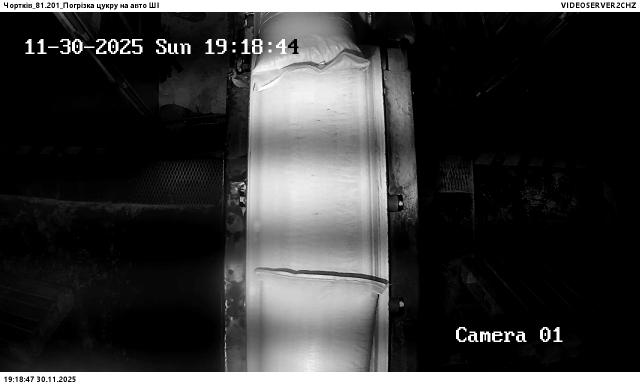bag: (257, 269, 386, 372), (254, 12, 370, 90)
